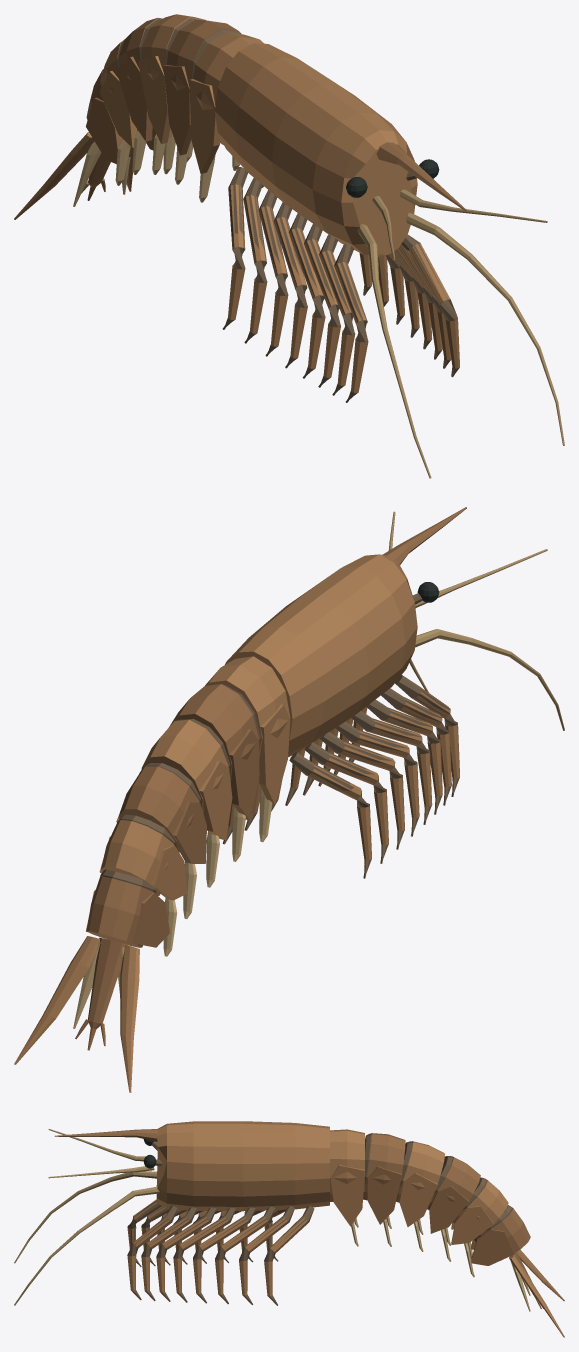
3 views of the same model, one above another, from view 1: azimuth 30°, elevation 25°; view 2: azimuth 150°, elevation 25°; view 3: azimuth 270°, elevation 25° (orthographic). The views are drawn at different scales.
Parts seen in each view (by area): view 1: anatomy_shell, anatomy_joint, anatomy_dorsal, anatomy_antenna, anatomy_ventral, anatomy_eye; view 2: anatomy_shell, anatomy_dorsal, anatomy_joint, anatomy_ventral, anatomy_antenna; view 3: anatomy_shell, anatomy_dorsal, anatomy_joint, anatomy_antenna, anatomy_ventral.
Boxes of the visible parts, <box> form: anatomy_shell: <box>14,14,459,392</box>; anatomy_joint: <box>100,18,459,402</box>; anatomy_dorsal: <box>81,17,466,211</box>; anatomy_antenna: <box>357,189,564,478</box>; anatomy_ventral: <box>73,128,263,206</box>; anatomy_eye: <box>346,159,439,197</box>; anatomy_shell: <box>14,554,459,1092</box>; anatomy_dorsal: <box>75,507,466,1050</box>; anatomy_joint: <box>100,593,459,892</box>; anatomy_ventral: <box>73,787,272,1028</box>; anatomy_antenna: <box>388,511,564,730</box>; anatomy_shell: <box>127,1121,564,1337</box>; anatomy_dorsal: <box>54,1129,543,1308</box>; anatomy_joint: <box>127,1133,512,1305</box>; anatomy_antenna: <box>14,1129,159,1305</box>; anatomy_ventral: <box>351,1216,530,1311</box>.
Size of the model in its own units: 0.0111 by 0.0208 by 0.0531.
